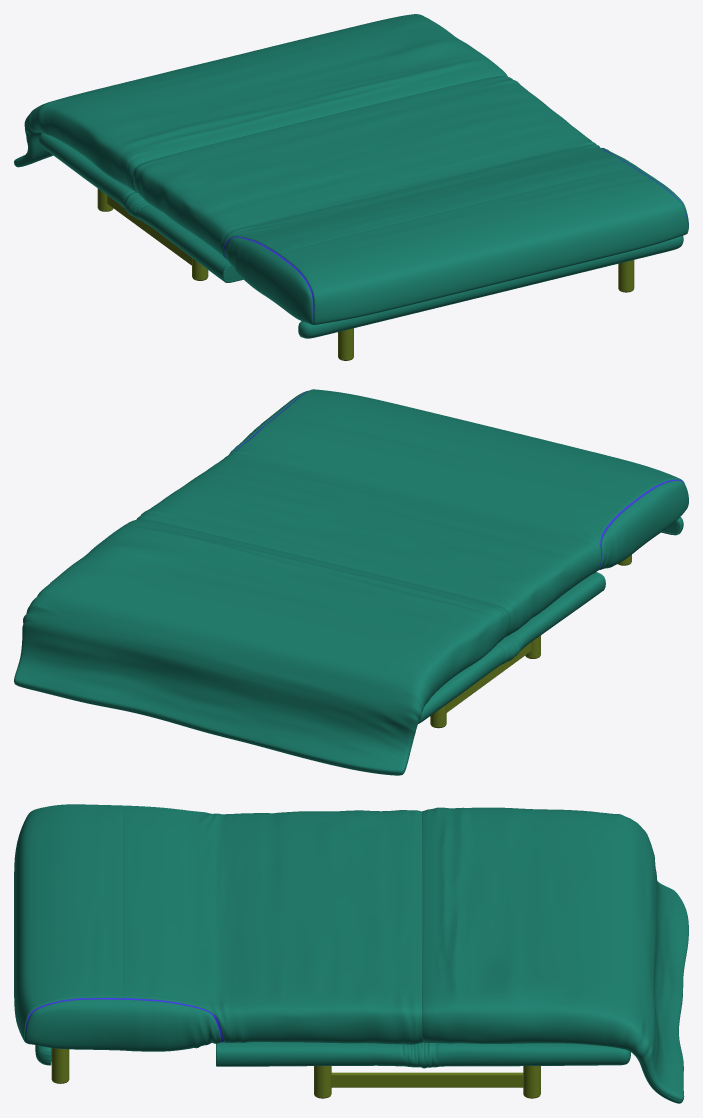
File: SM_Schlafsofa_offen.fbx
3 views of the same model, one above another, from view 1: azimuth 30°, elevation 25°; view 2: azimuth 150°, elevation 25°; view 3: azimuth 270°, elevation 25° (orthographic). The views are drawn at different scales.
Parts seen in each view (by area): view 1: SM_Schlafsofa_offen; view 2: SM_Schlafsofa_offen; view 3: SM_Schlafsofa_offen.
Boxes of the visible parts, x1,y1,x2,y2 form: SM_Schlafsofa_offen: [14, 14, 688, 360]; SM_Schlafsofa_offen: [14, 389, 688, 775]; SM_Schlafsofa_offen: [14, 804, 688, 1103].
Size of the model in its own units: 171 by 39.29 by 227.
